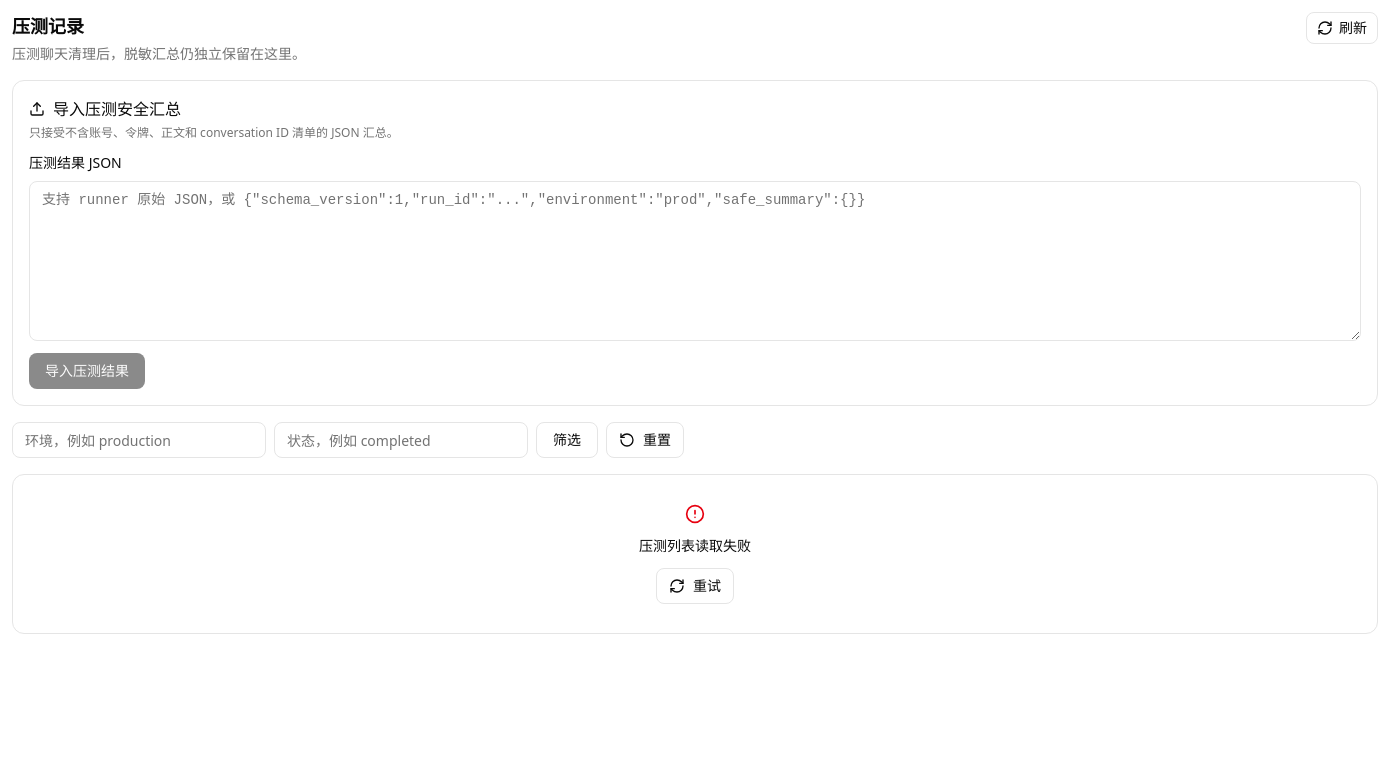
Test: AdminPerformancePanel › 展示列表错误并允许重试
Expected: the text "压测列表读取失败" is shown, [639, 536, 751, 556]
Click the button with aria-label "重新加载".
click(695, 586)  # box [656, 568, 734, 604]
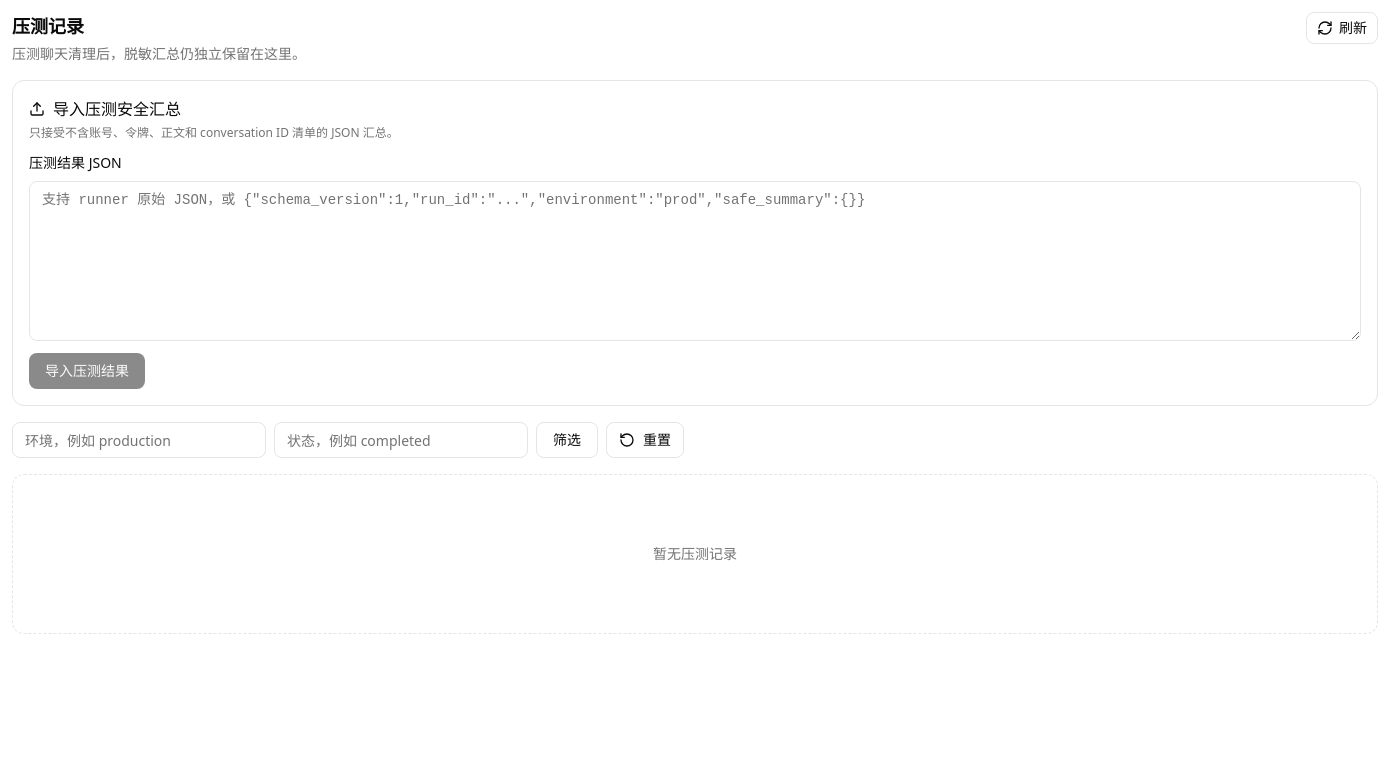
Now the text "暂无压测记录" is shown, box [12, 474, 1378, 634]
